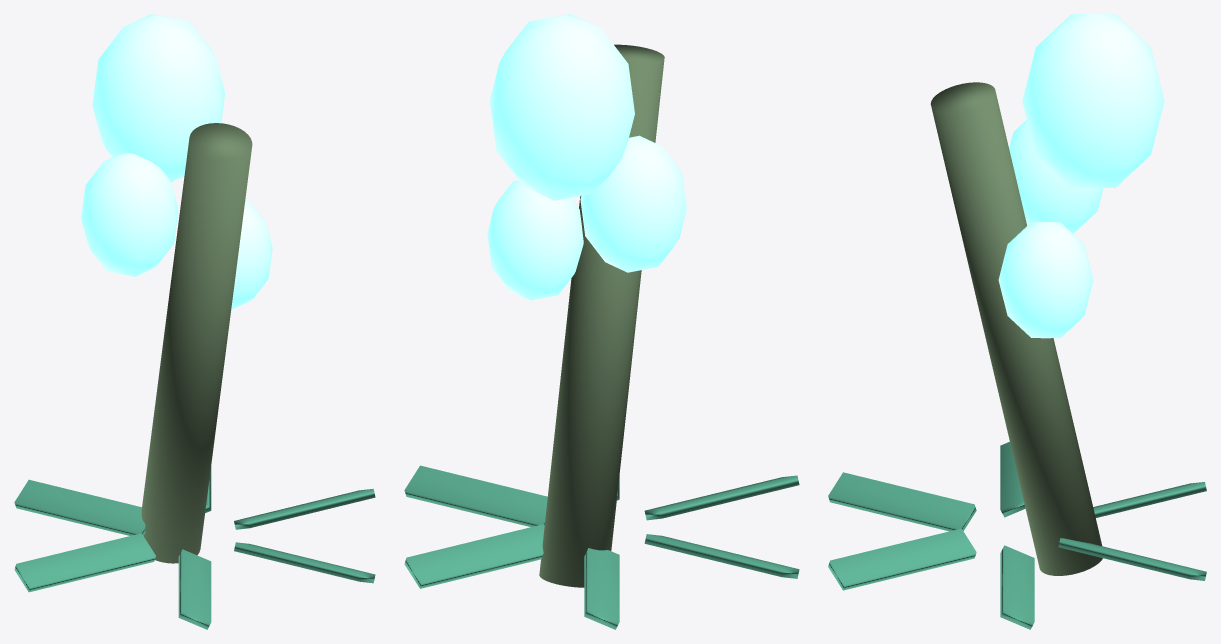
File: nature_bioluminescent_lantern_plant.glb
The picture shows the model from 3 angles, left to right: view 1: azimuth 30°, elevation 25°; view 2: azimuth 150°, elevation 25°; view 3: azimuth 270°, elevation 25°; orthographic projection. The views are drawn at different scales.
Parts seen in each view (by area): view 1: Lantern_Stem, Luminous_Bulb_1, Luminous_Bulb_2, Base_Frond_4, Base_Frond_3, Luminous_Bulb_3, Base_Frond_5, Base_Frond_1, Base_Frond_6; view 2: Lantern_Stem, Luminous_Bulb_1, Luminous_Bulb_2, Luminous_Bulb_3, Base_Frond_1, Base_Frond_2, Base_Frond_3, Base_Frond_4, Base_Frond_5; view 3: Lantern_Stem, Luminous_Bulb_1, Luminous_Bulb_3, Luminous_Bulb_2, Base_Frond_6, Base_Frond_5, Base_Frond_1, Base_Frond_2, Base_Frond_3, Base_Frond_4.
Part boxes in pixels (x1=…): Lantern_Stem: x1=141, y1=123, x2=252, y2=563; Luminous_Bulb_1: x1=92, y1=14, x2=224, y2=182; Luminous_Bulb_2: x1=81, y1=153, x2=178, y2=276; Base_Frond_4: x1=14, y1=533, x2=155, y2=592; Base_Frond_3: x1=14, y1=479, x2=145, y2=535; Luminous_Bulb_3: x1=231, y1=199, x2=272, y2=308; Base_Frond_5: x1=178, y1=549, x2=211, y2=629; Base_Frond_1: x1=234, y1=488, x2=375, y2=529; Base_Frond_6: x1=234, y1=542, x2=375, y2=583; Lantern_Stem: x1=539, y1=44, x2=664, y2=587; Luminous_Bulb_1: x1=489, y1=14, x2=634, y2=200; Luminous_Bulb_2: x1=580, y1=135, x2=686, y2=272; Luminous_Bulb_3: x1=487, y1=180, x2=583, y2=300; Base_Frond_1: x1=404, y1=465, x2=547, y2=526; Base_Frond_2: x1=404, y1=524, x2=544, y2=588; Base_Frond_3: x1=584, y1=548, x2=619, y2=629; Base_Frond_4: x1=644, y1=534, x2=799, y2=578; Base_Frond_5: x1=644, y1=475, x2=799, y2=520; Lantern_Stem: x1=930, y1=82, x2=1102, y2=575; Luminous_Bulb_1: x1=1022, y1=14, x2=1164, y2=188; Luminous_Bulb_3: x1=998, y1=222, x2=1093, y2=338; Luminous_Bulb_2: x1=1009, y1=120, x2=1103, y2=233; Base_Frond_6: x1=828, y1=528, x2=976, y2=590; Base_Frond_5: x1=828, y1=472, x2=976, y2=531; Base_Frond_1: x1=1000, y1=545, x2=1034, y2=629; Base_Frond_2: x1=1058, y1=538, x2=1206, y2=580; Base_Frond_3: x1=1093, y1=482, x2=1206, y2=517; Base_Frond_4: x1=1000, y1=441, x2=1025, y2=517.
Size of the model in its own units: 4.4 by 6.43 by 3.99.
